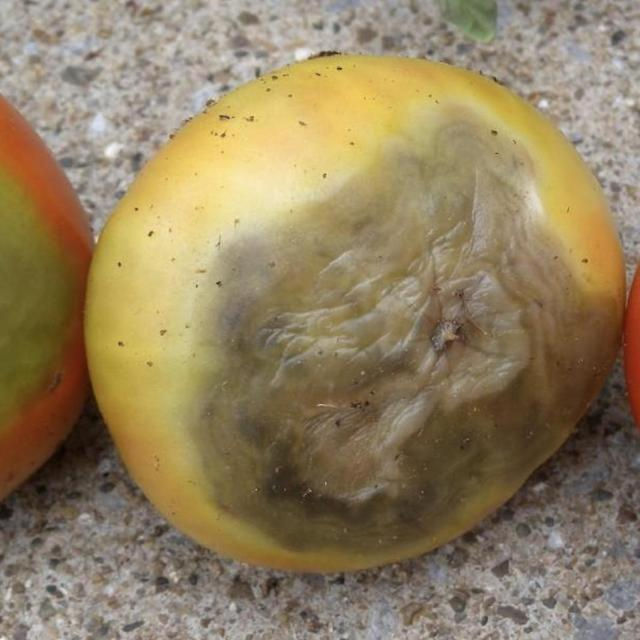Sunscald Fruit: (24, 172, 292, 301)
